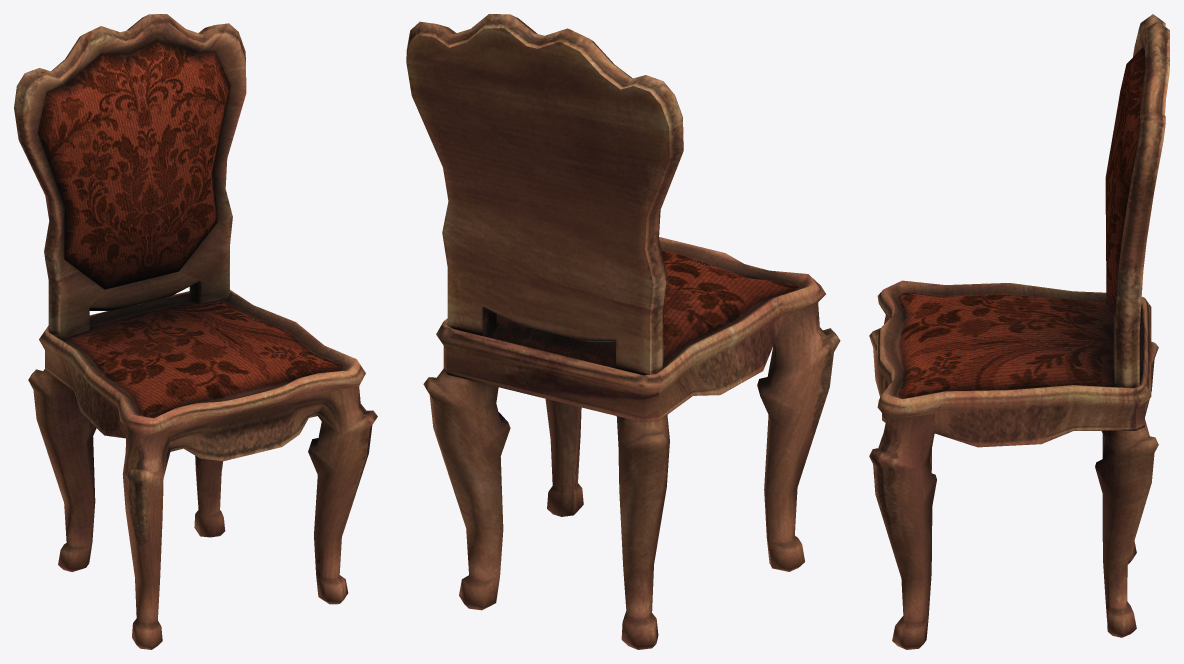
The model's file is chair_nice02.dae.
The picture shows the model from 3 angles, left to right: view 1: azimuth 30°, elevation 25°; view 2: azimuth 150°, elevation 25°; view 3: azimuth 270°, elevation 25°; orthographic projection. The views are drawn at different scales.
Visible parts, largest first — view 1: chair_nice01_Mesh; view 2: chair_nice01_Mesh; view 3: chair_nice01_Mesh.
Boxes of the visible parts, <box> form: chair_nice01_Mesh: <box>14,14,377,649</box>; chair_nice01_Mesh: <box>406,14,840,649</box>; chair_nice01_Mesh: <box>869,14,1169,649</box>.
Size of the model in its own units: 0.6539 by 1.31 by 0.6397.
